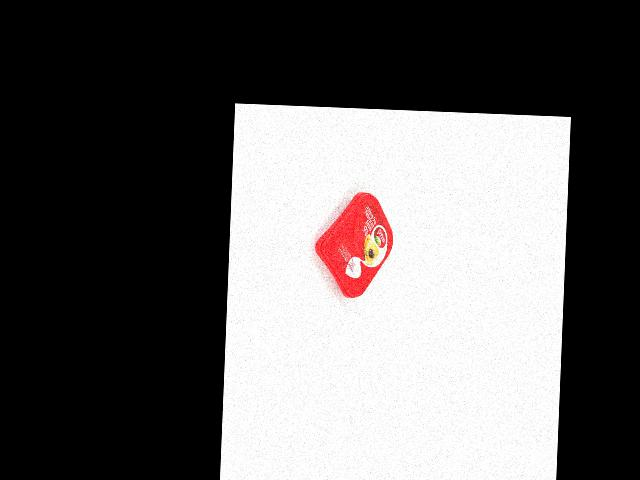cheese: (312, 190, 395, 300)
